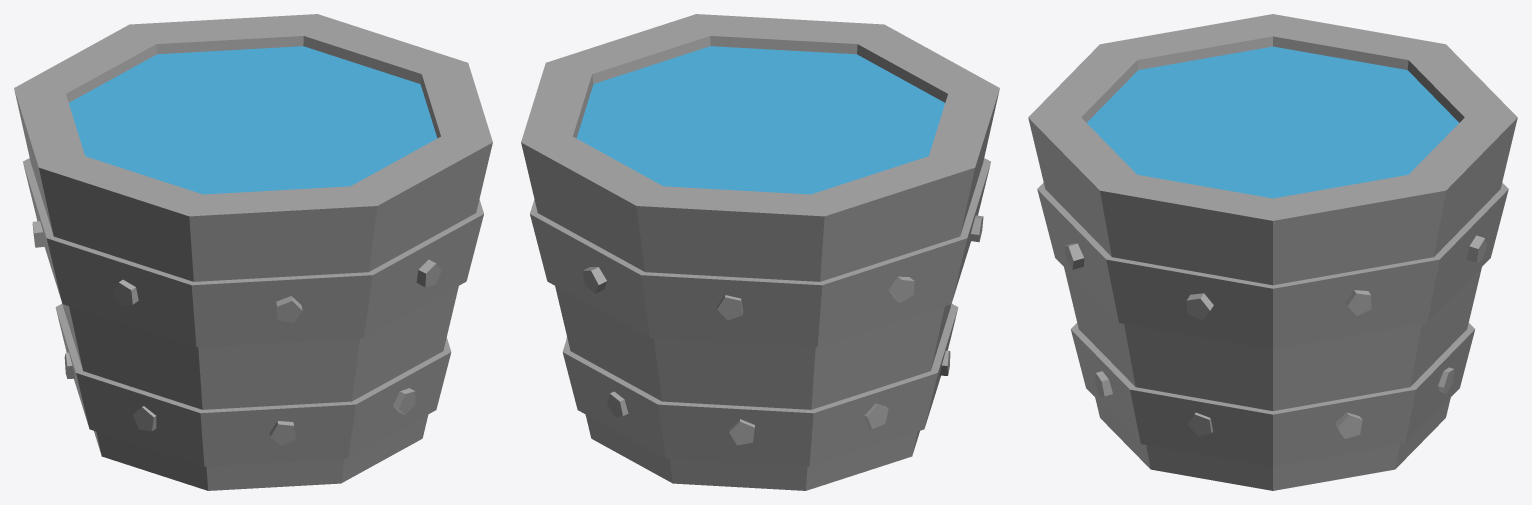
Rendered from Bucket_Quartered.fbx.
3 views of the same model, side by side, from view 1: azimuth 30°, elevation 25°; view 2: azimuth 150°, elevation 25°; view 3: azimuth 270°, elevation 25° (orthographic).
Parts seen in each view (by area): view 1: Bucket, Water100; view 2: Bucket, Water100; view 3: Bucket, Water100.
Boxes of the visible parts, left/top/right/bottom form: Bucket: left=14, top=14, right=492, bottom=490; Water100: left=68, top=46, right=437, bottom=194; Bucket: left=521, top=14, right=999, bottom=490; Water100: left=576, top=46, right=945, bottom=194; Bucket: left=1028, top=14, right=1517, bottom=490; Water100: left=1087, top=46, right=1458, bottom=198.
Size of the model in its own units: 98.98 by 67.01 by 98.98.
